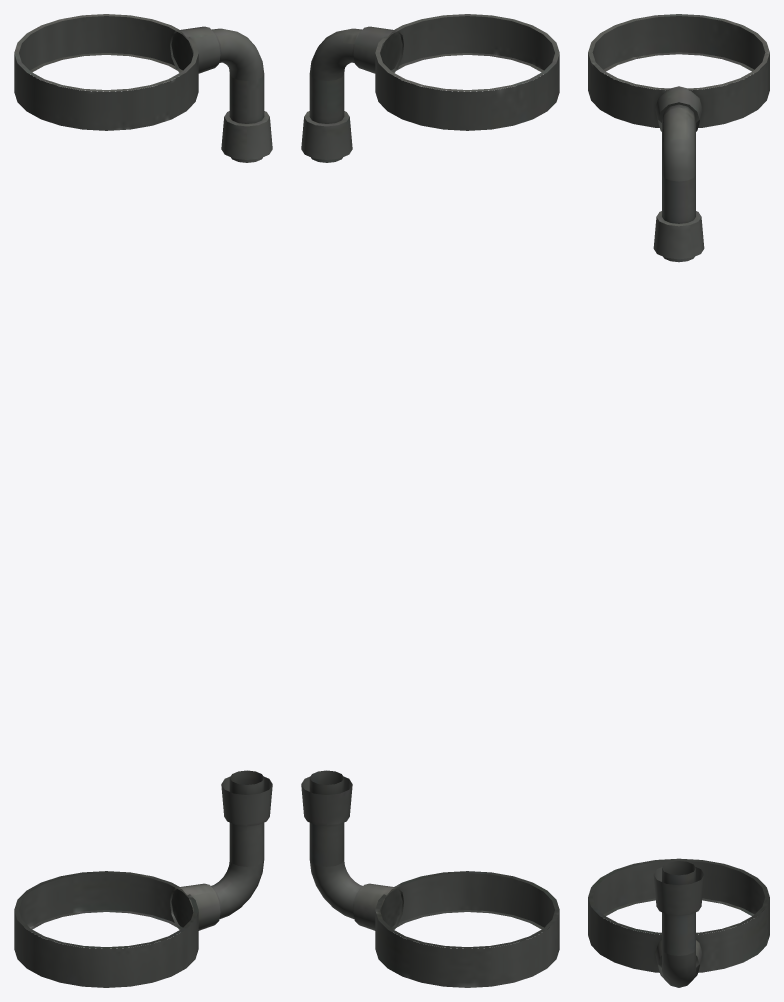
File: frontMountMast-v1.glb
3 views of the same model, side by side, from view 1: azimuth 30°, elevation 25°; view 2: azimuth 150°, elevation 25°; view 3: azimuth 270°, elevation 25° (orthographic).
Visible parts, largest first — view 1: frontMountMast-v1; view 2: frontMountMast-v1; view 3: frontMountMast-v1.
Boxes of the visible parts, bbox=[...] form: frontMountMast-v1: bbox=[14, 14, 272, 987]; frontMountMast-v1: bbox=[301, 14, 559, 987]; frontMountMast-v1: bbox=[588, 14, 769, 987].
Bounding box in the file's own units: 0.3921 × 1.39 × 0.2581.
1 material, 1 textured.
